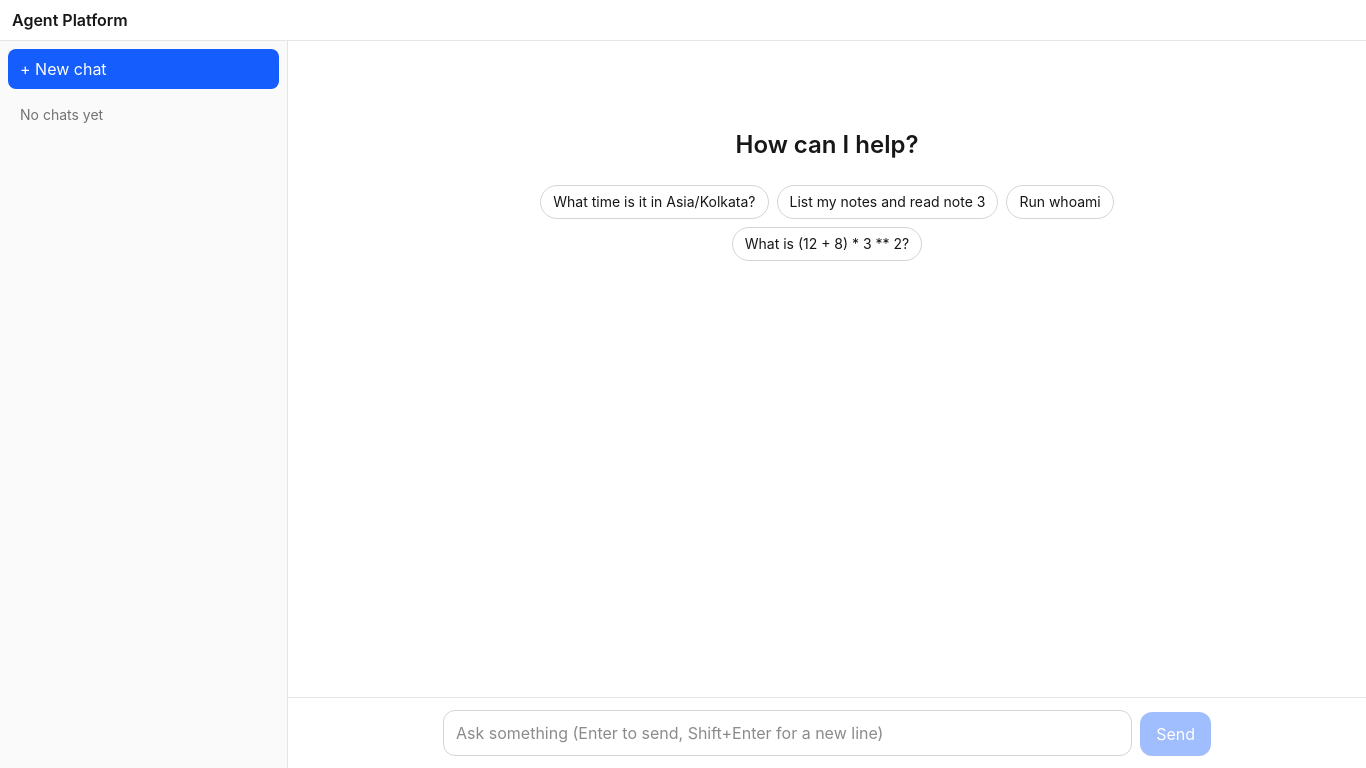
Test case: chat UI › suggestion chips send a message; sidebar lists the chat and reloads history
Click the button "Run whoami".
click(1060, 202)  # box [1006,185,1114,219]
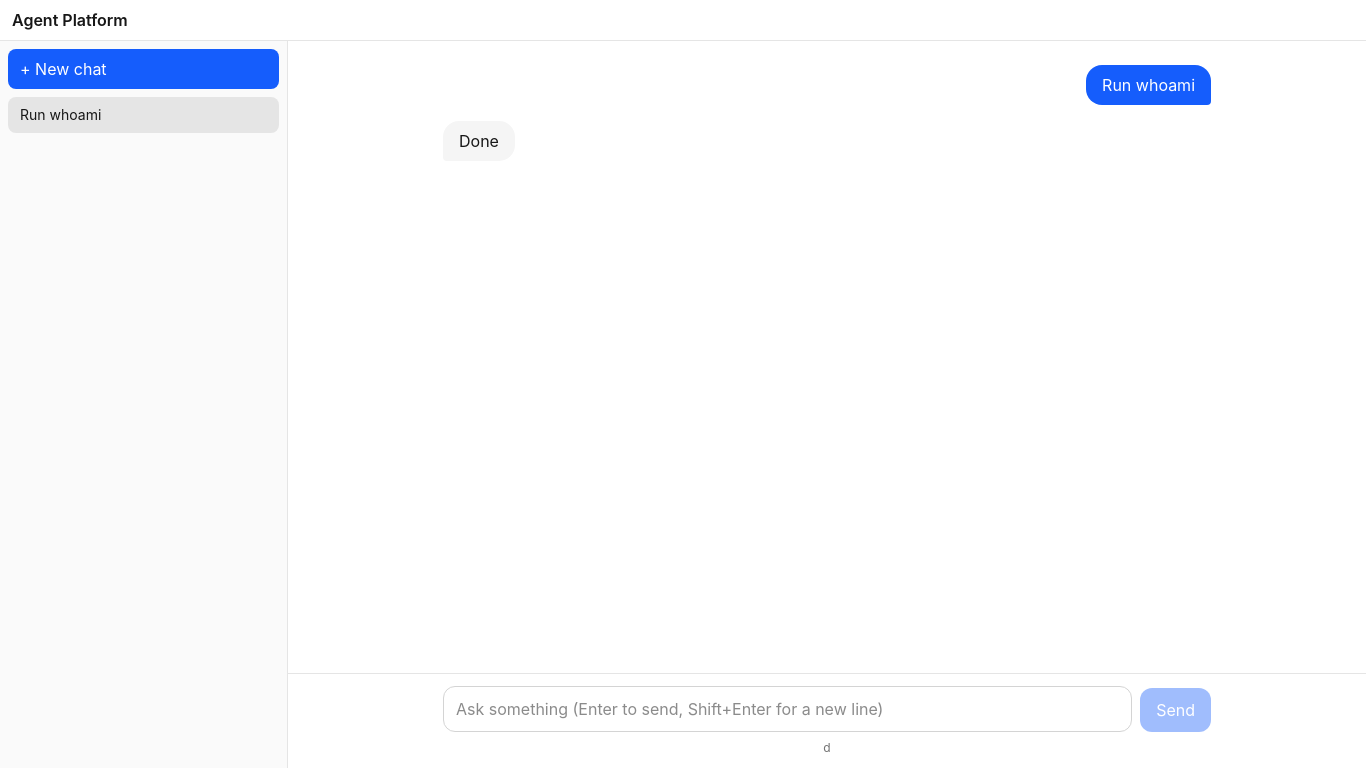
Result: the text "Done" is shown at [459,129,499,153]
Result: the navigation bar reads "Run whoami" at [8,97,252,133]
Click the button "+ New chat".
click(63, 69)  # box [8,49,279,89]
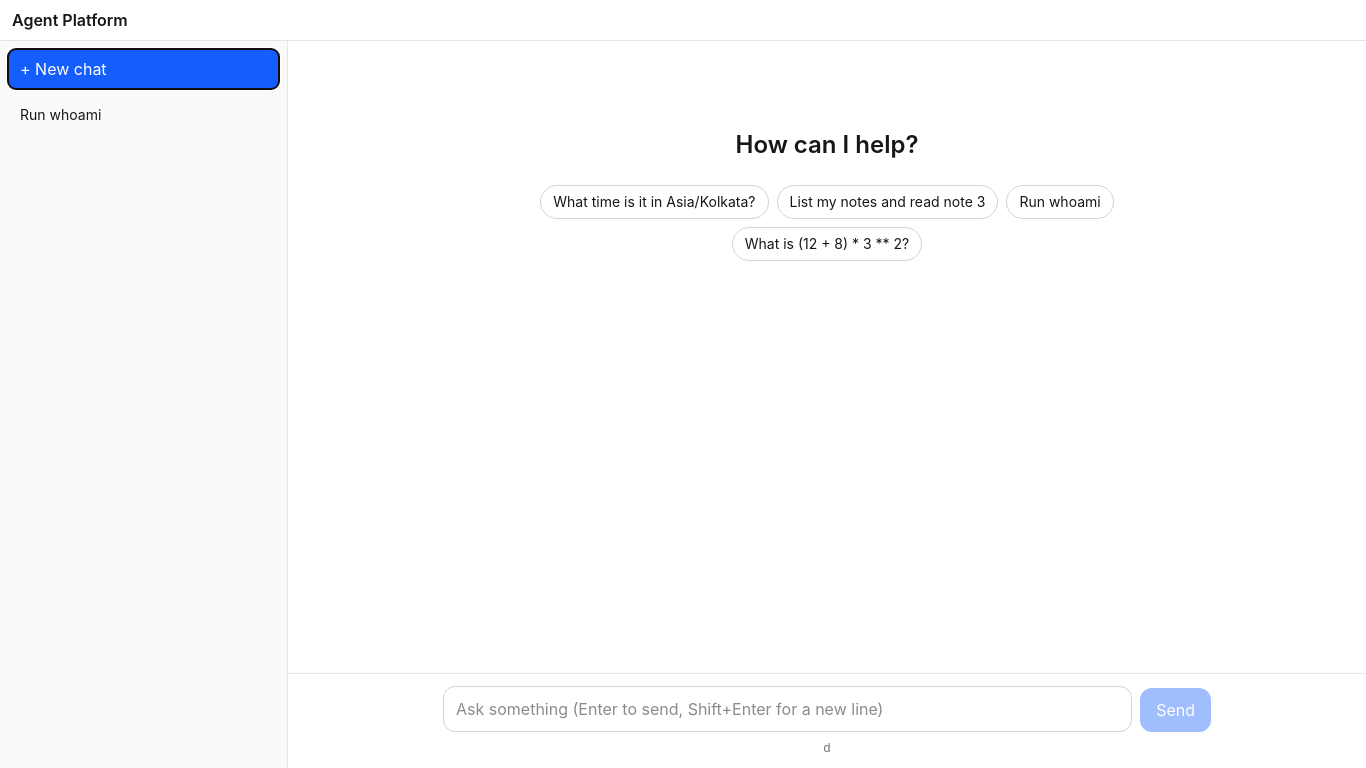
Result: the text "Done" is gone
Click the 1st button "Run whoami".
click(130, 115)  # box [8,97,252,133]
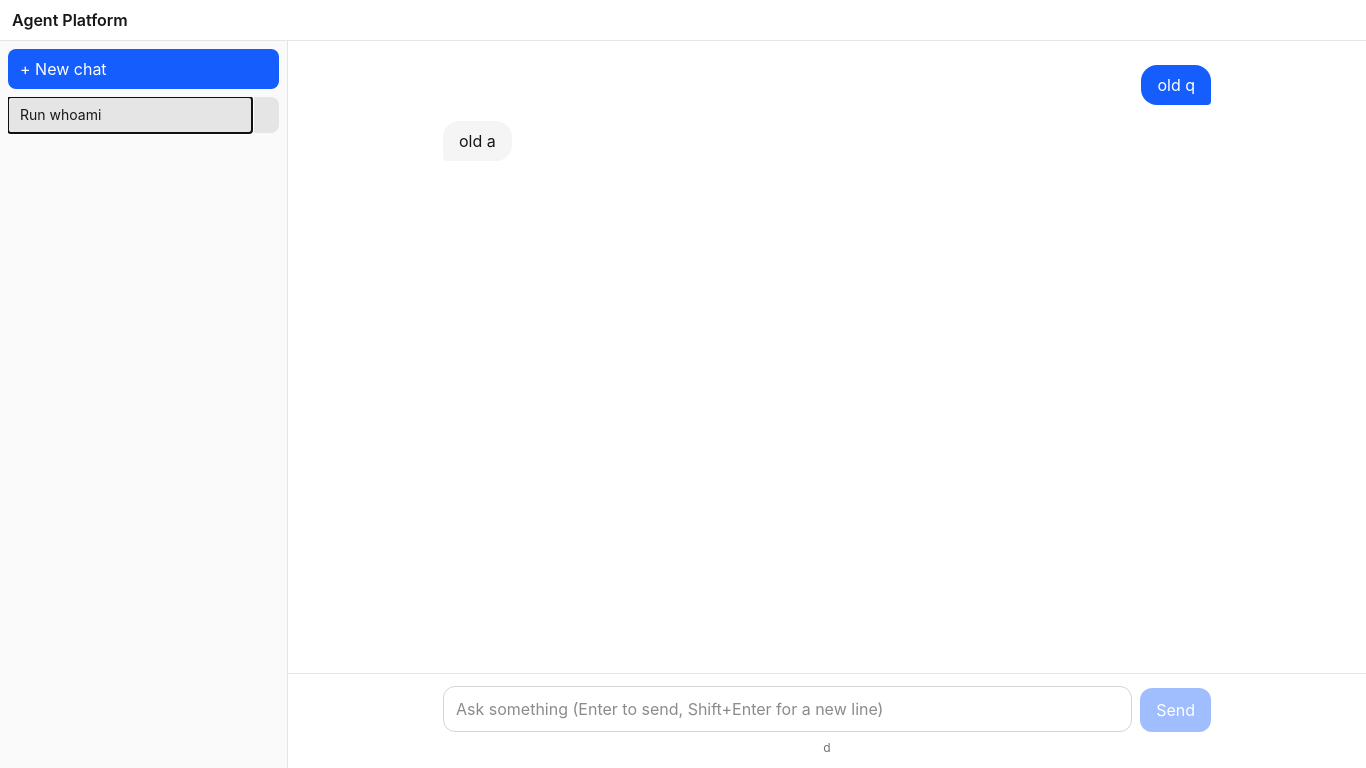
Result: the text "old a" is shown at [459,129,496,153]
